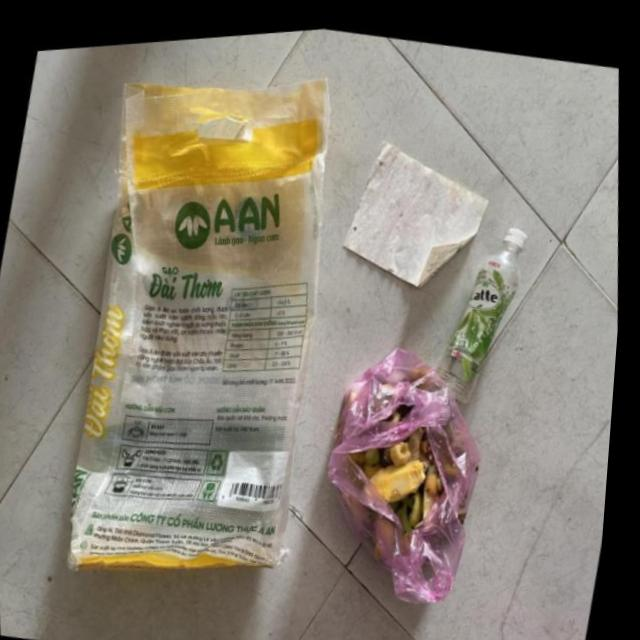fabric: (333, 369, 486, 554)
food: (314, 104, 523, 308)
leaf: (408, 167, 578, 411)
metal: (0, 4, 436, 640), (293, 326, 531, 638)
